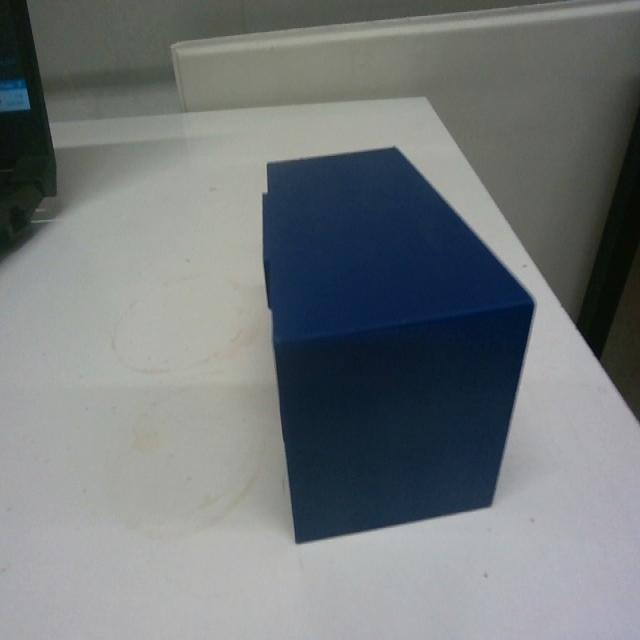Blue Cuboid: (257, 141, 537, 544)
